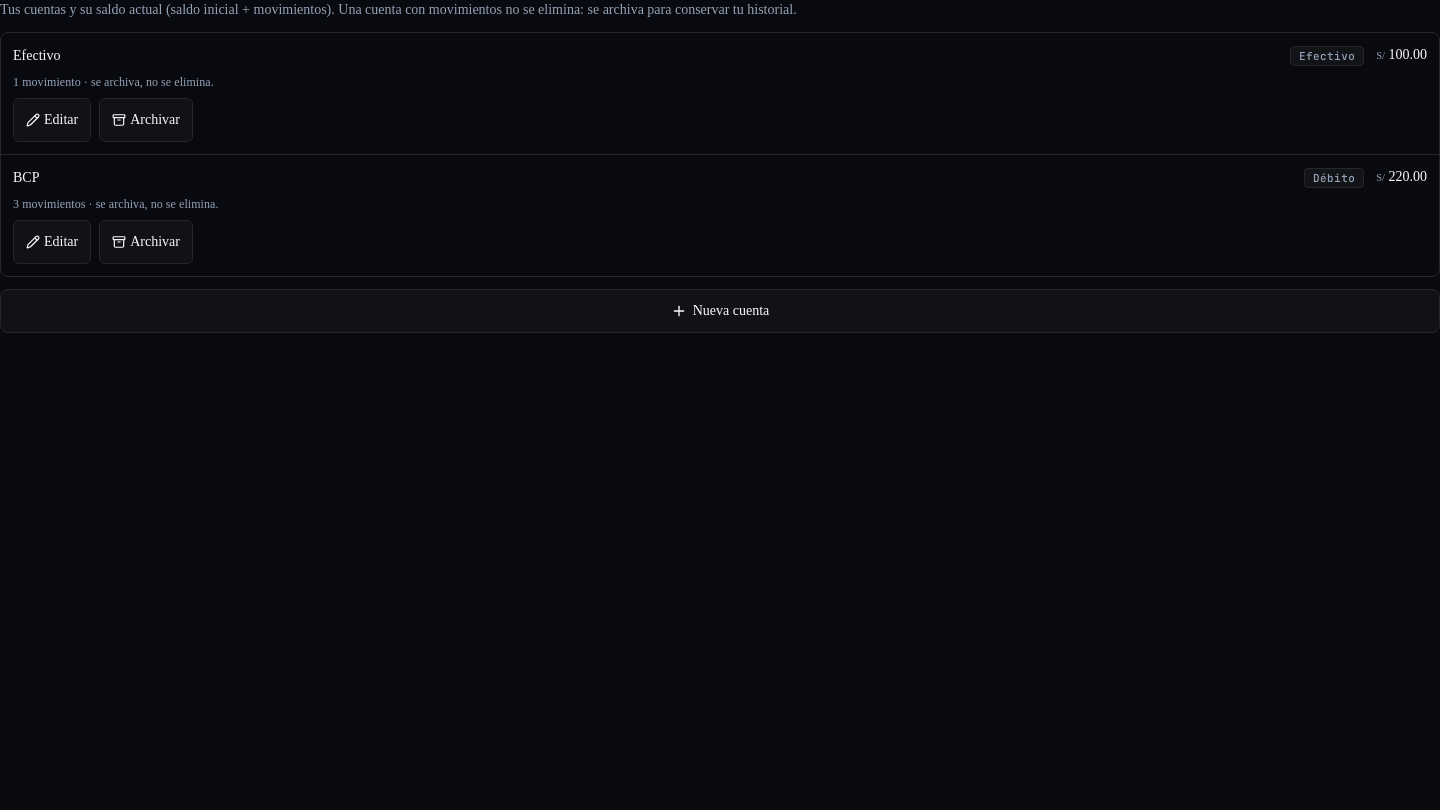
PaymentAccountSettings › creates an account with its opening balance in integer cents
This screenshot has width=1440, height=810.
Click the button "Nueva cuenta": (720, 311) x1=0 y1=289 x2=1439 y2=333
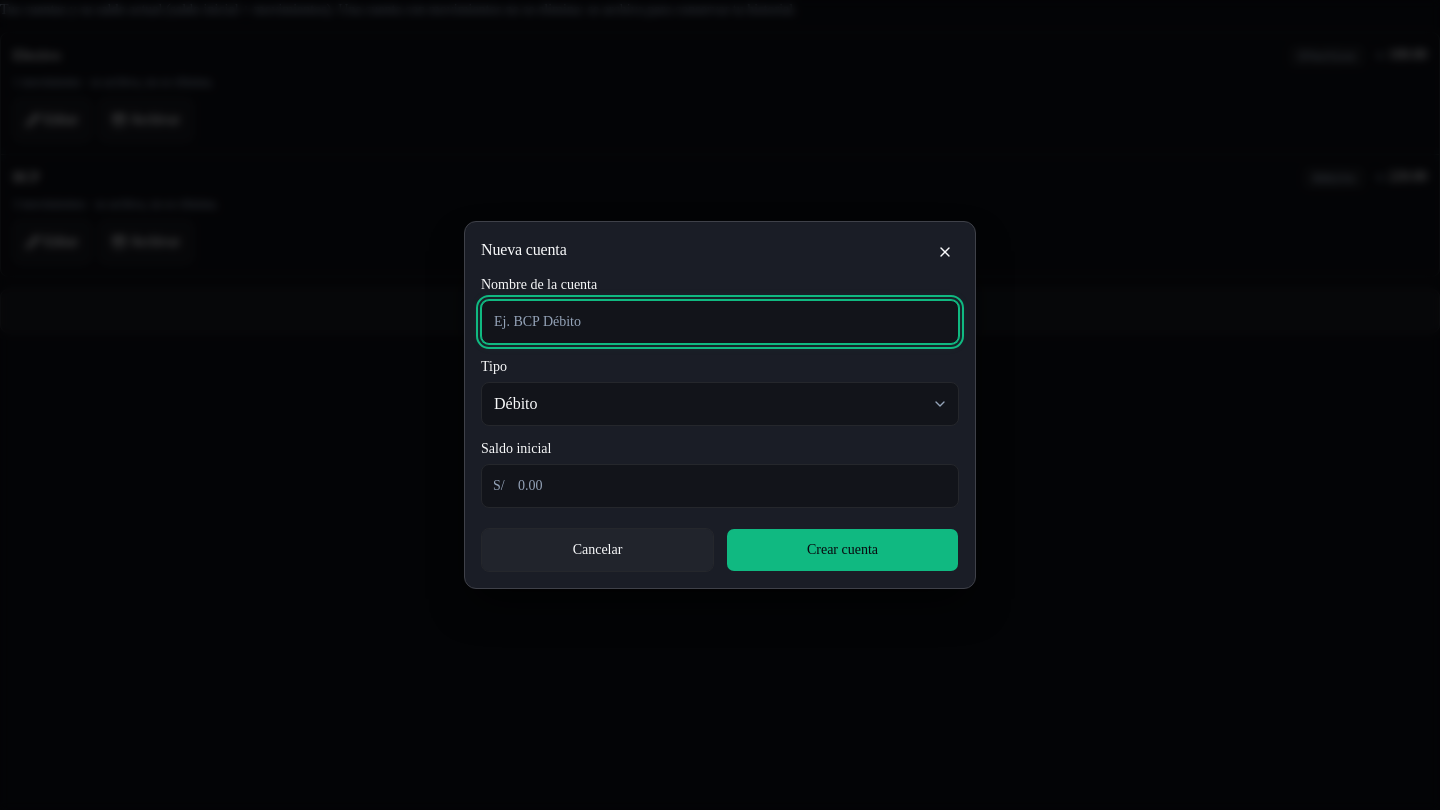
In the field labelled "Nombre de la cuenta": (720, 322) x1=481 y1=300 x2=959 y2=344, type "Interbank"
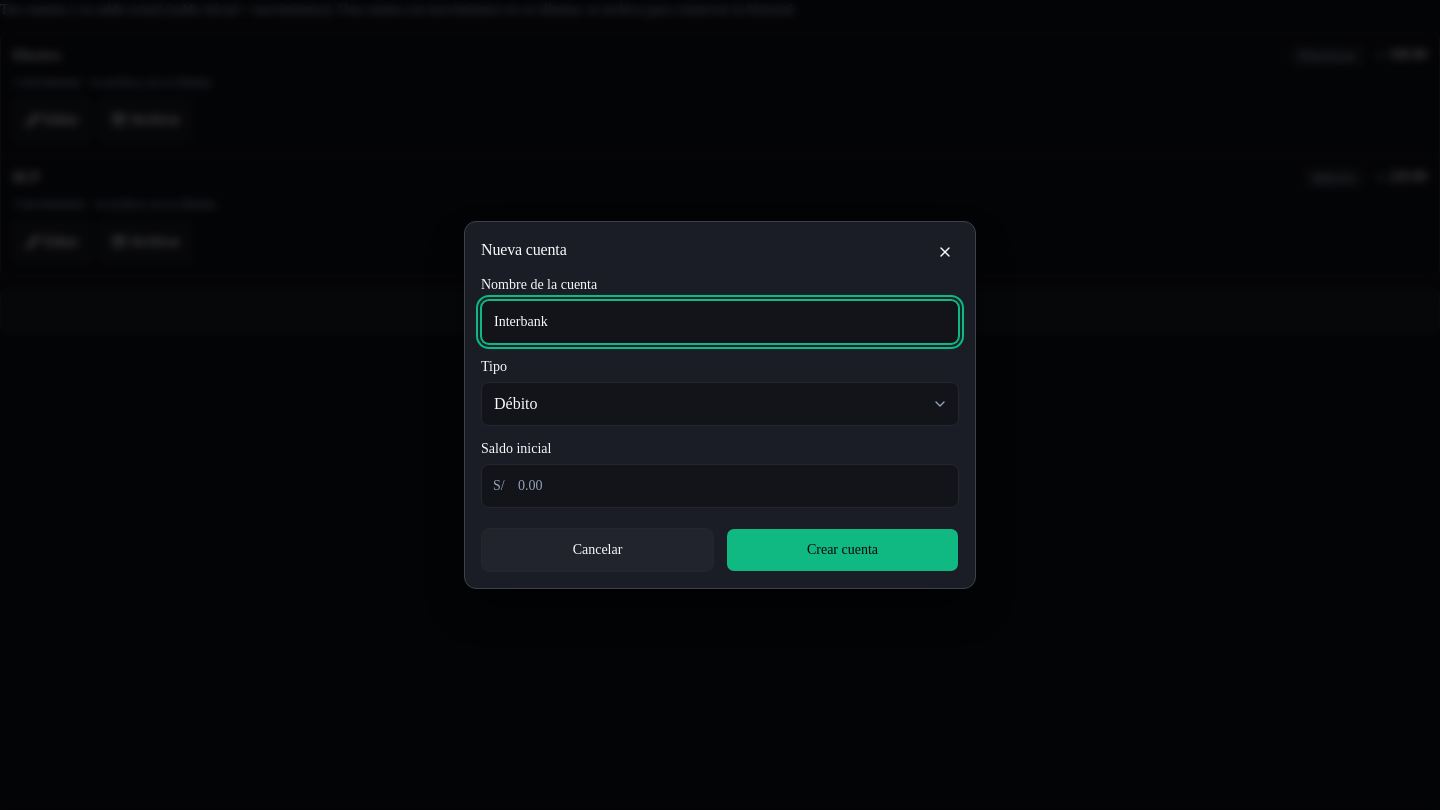
In the field labelled "Saldo inicial": (720, 486) x1=481 y1=464 x2=959 y2=508, type "1,250.75"
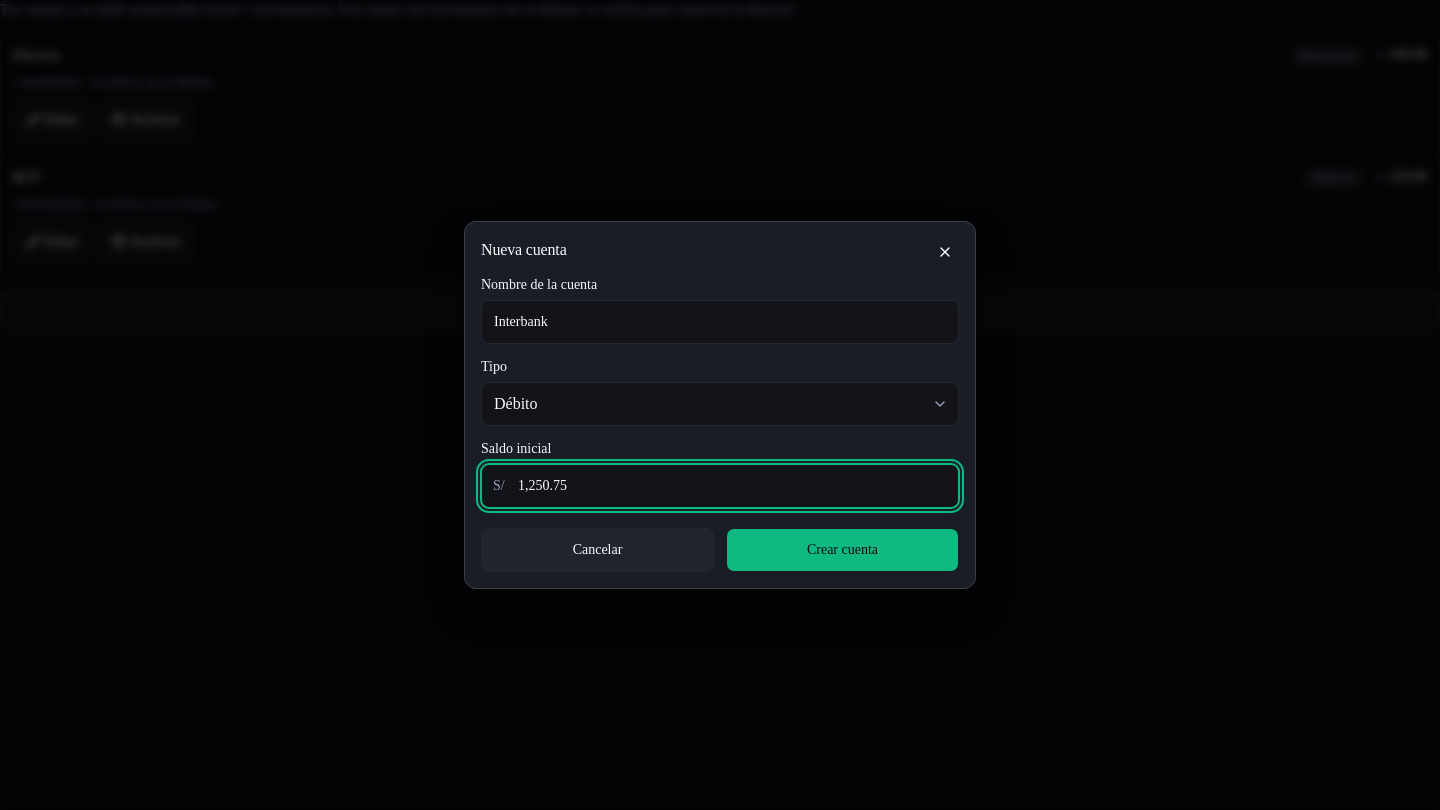
Click the button "Crear cuenta": (842, 550) x1=726 y1=528 x2=959 y2=572
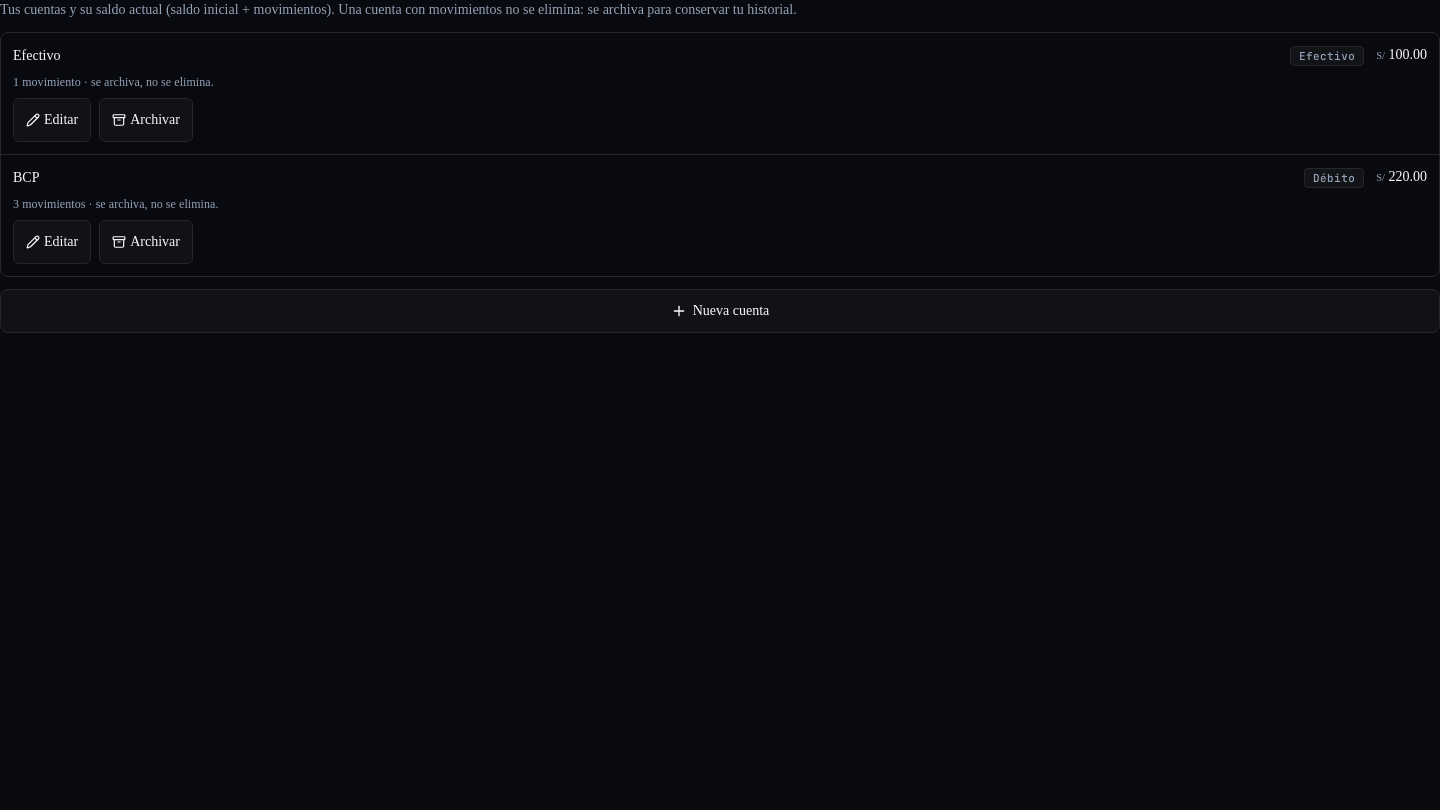
Expected: the form with test id "payment-account-form" is gone
